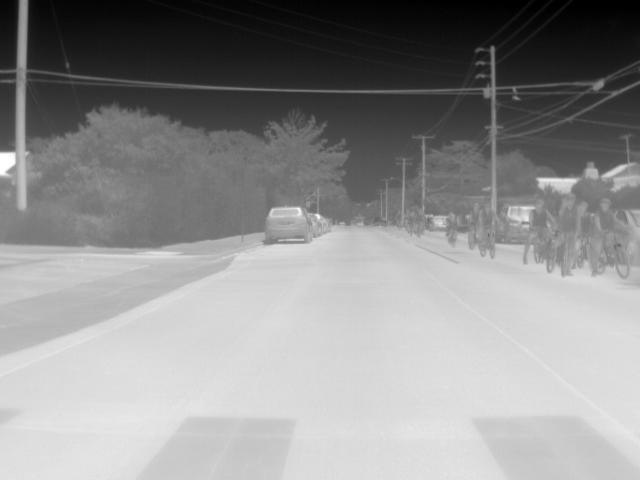car: (265, 205, 314, 245), (502, 206, 536, 246), (611, 207, 640, 241), (429, 214, 449, 230), (308, 213, 321, 235), (312, 213, 326, 232)
person: (592, 200, 630, 278), (551, 197, 584, 274), (520, 198, 554, 262), (479, 200, 503, 244), (446, 213, 462, 239)
